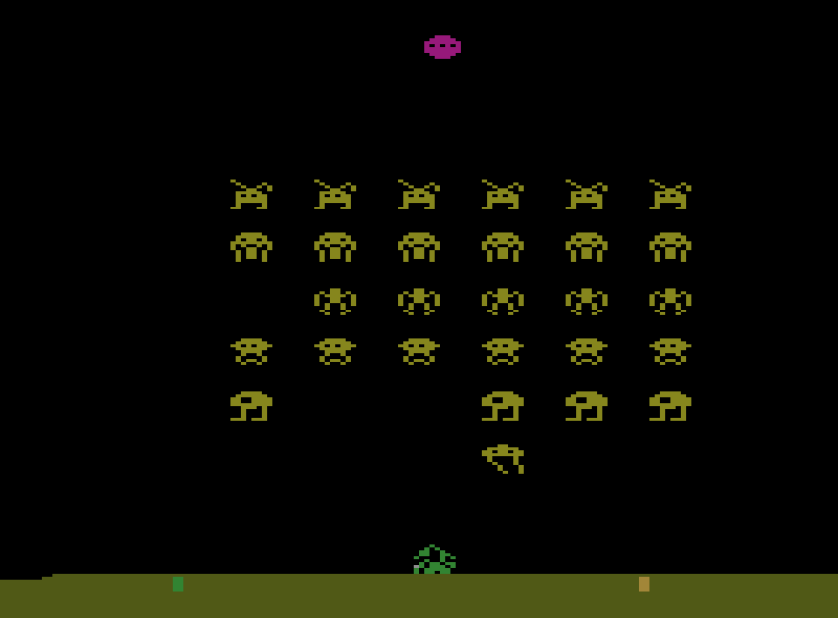bonus: (423, 33, 464, 60)
invader1: (313, 177, 358, 212), (395, 177, 442, 210), (229, 176, 274, 210), (480, 177, 525, 211), (564, 177, 609, 210), (647, 178, 693, 210)
invader2: (395, 230, 442, 264), (564, 229, 609, 264), (312, 230, 357, 264), (480, 230, 525, 264), (649, 230, 694, 264), (230, 230, 274, 264)
invader3: (647, 285, 694, 317), (312, 286, 359, 317), (479, 285, 526, 315), (564, 287, 610, 317), (397, 286, 442, 316)
invader4: (311, 335, 359, 368), (395, 335, 442, 367), (229, 335, 274, 367), (564, 335, 610, 366), (482, 335, 525, 368), (649, 336, 694, 367)
invader5: (227, 388, 275, 422), (648, 389, 693, 423), (479, 389, 525, 422), (564, 389, 610, 422)
invader6: (480, 442, 526, 477)
player: (413, 542, 459, 575)
